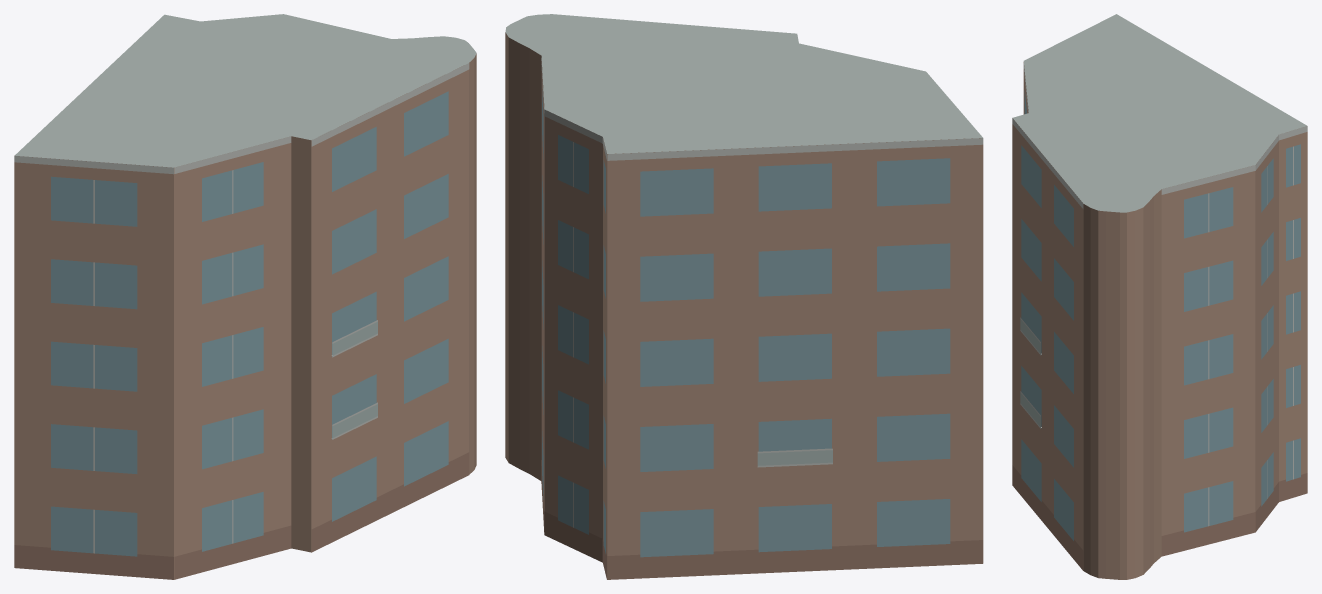
The model's file is survey-upis-33044729.glb.
3 views of the same model, side by side, from view 1: azimuth 30°, elevation 25°; view 2: azimuth 150°, elevation 25°; view 3: azimuth 270°, elevation 25° (orthographic). The views are drawn at different scales.
Parts seen in each view (by area): view 1: survey-upis-33044729.tmp; view 2: survey-upis-33044729.tmp; view 3: survey-upis-33044729.tmp.
Part boxes in pixels (x1,y1,x2,y2): survey-upis-33044729.tmp: [14, 14, 476, 579]; survey-upis-33044729.tmp: [505, 14, 983, 579]; survey-upis-33044729.tmp: [1012, 14, 1307, 579].
Size of the model in its own units: 17.67 by 15.25 by 11.11.
